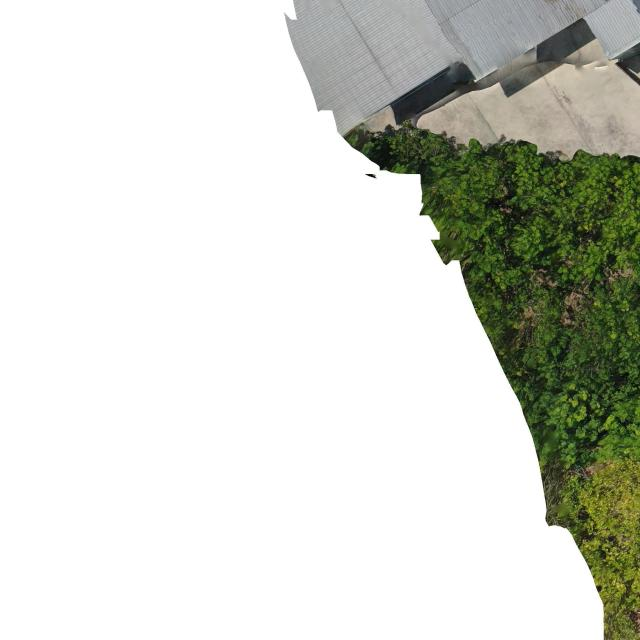tree_crowd: (321, 119, 640, 482)
